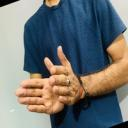hand: (14, 57, 66, 113), (48, 45, 87, 105)
